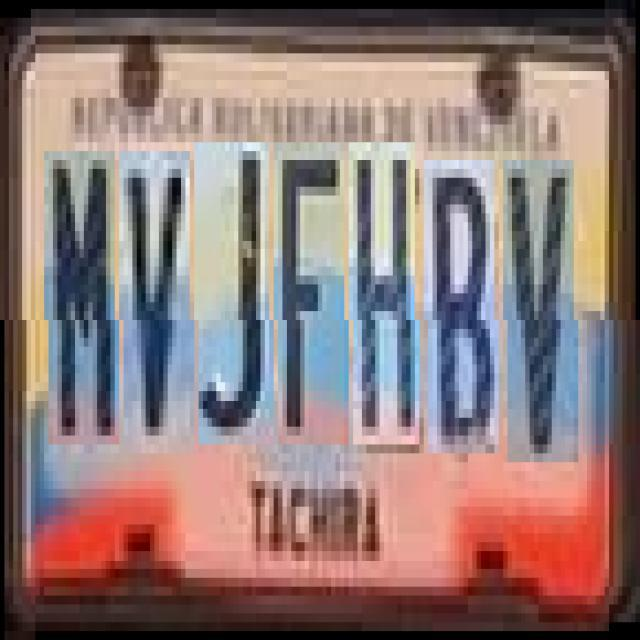B: (428, 160, 499, 453)
F: (278, 143, 349, 444)
H: (353, 143, 419, 444)
J: (198, 143, 274, 444)
M: (49, 151, 120, 445)
V: (124, 151, 194, 453), (508, 160, 578, 462)
